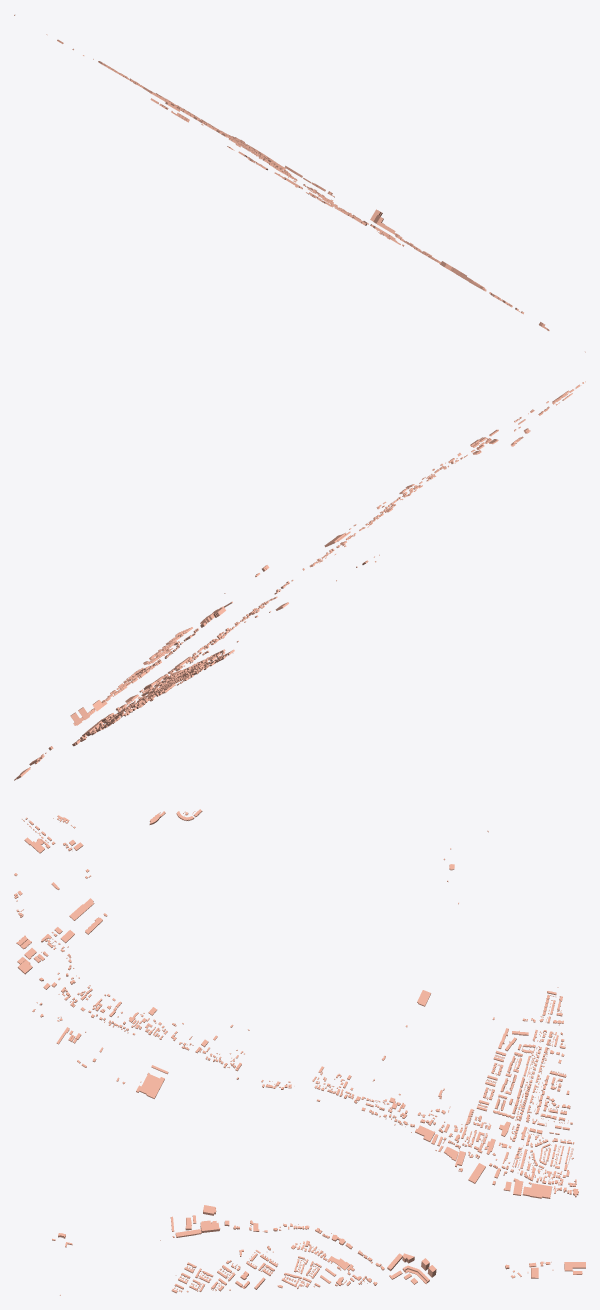
3 renders of one model, top to bottom at view 1: azimuth 30°, elevation 25°; view 2: azimuth 150°, elevation 25°; view 3: azimuth 270°, elevation 25°, orthographic. The views are drawn at different scales.
Bounding box in the file's own units: 1943 × 1489 × 2542.
